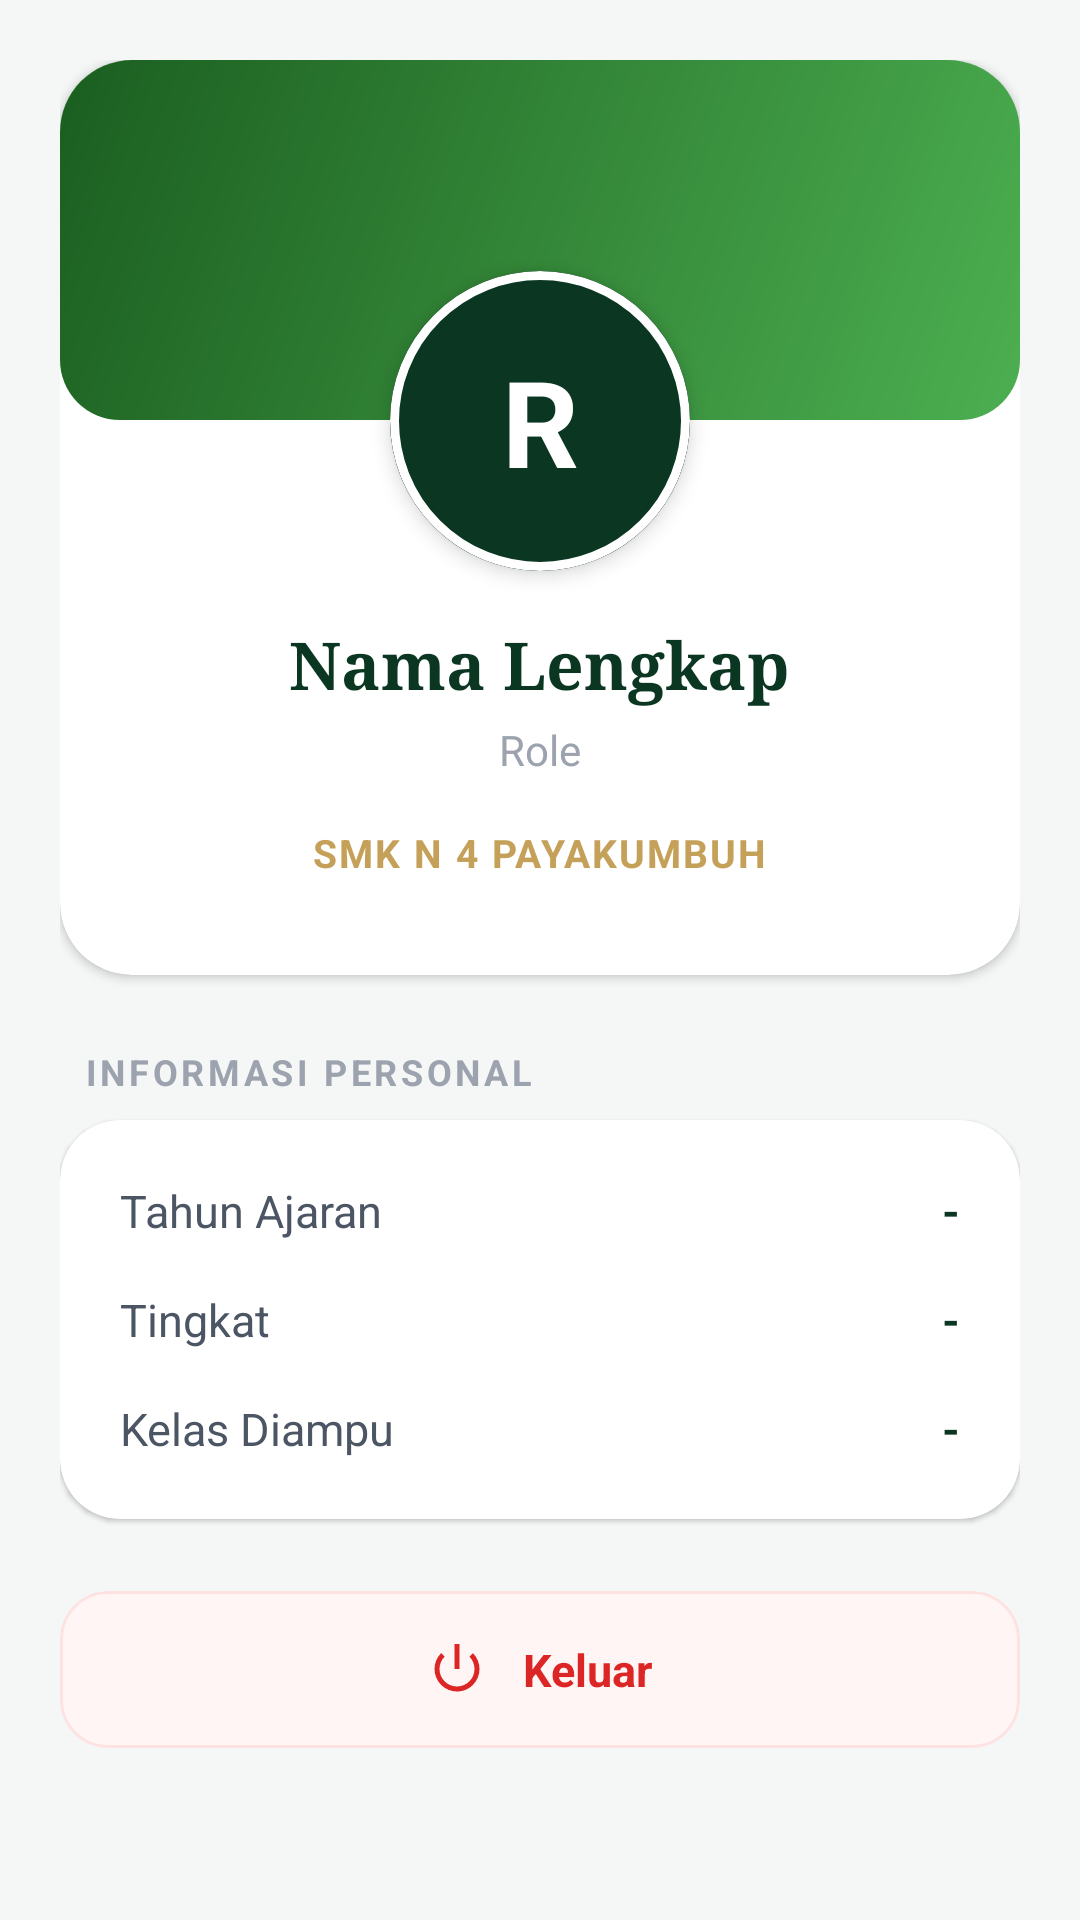

Named icons in this screenshot (1080w x 1920h) and their centers, [x,y]:
lock power off: [457,1668]
